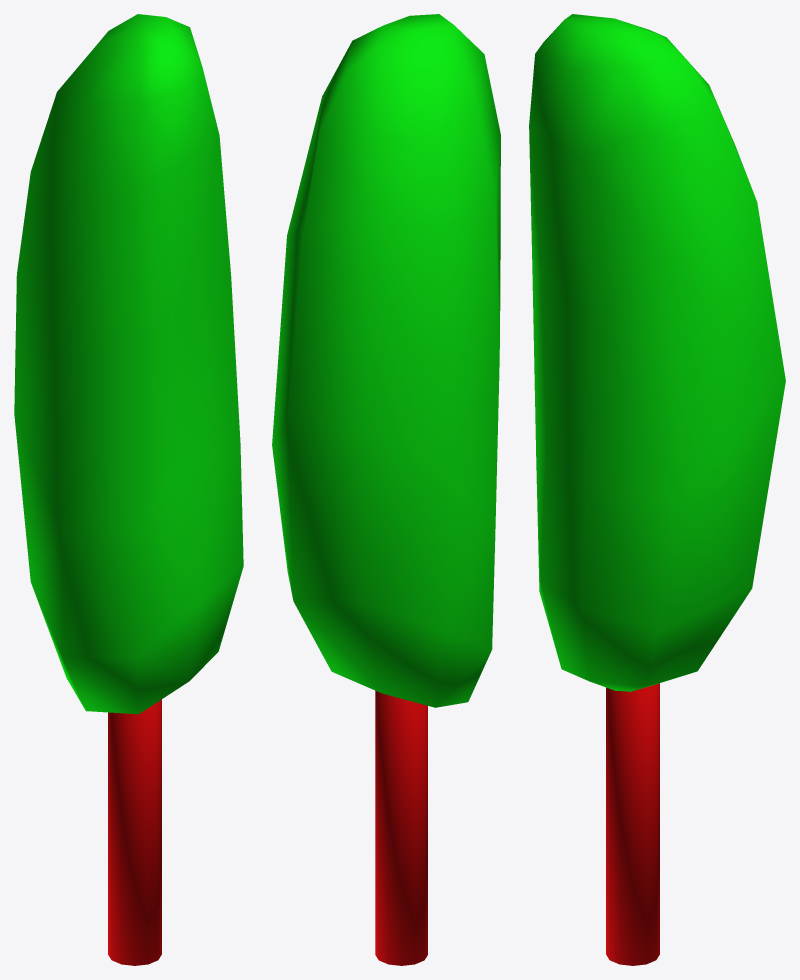
The model's file is Tree_07.fbx.
3 views of the same model, side by side, from view 1: azimuth 30°, elevation 25°; view 2: azimuth 150°, elevation 25°; view 3: azimuth 270°, elevation 25° (orthographic).
Visible parts, largest first — view 1: Tree_07; view 2: Tree_07; view 3: Tree_07.
Boxes of the visible parts, x1,y1,x2,y2 form: Tree_07: (14,14,243,965); Tree_07: (272,14,500,965); Tree_07: (529,14,785,965).
Size of the model in its own units: 143 by 652 by 162.
